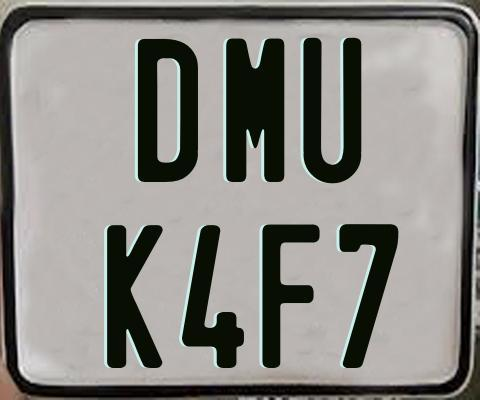4: (179, 223, 246, 367)
7: (336, 224, 402, 369)
D: (136, 37, 201, 186)
F: (261, 224, 322, 372)
K: (106, 223, 168, 371)
M: (226, 35, 290, 184)
U: (303, 36, 362, 181)
